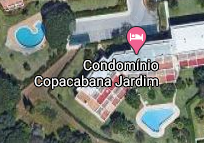pool: (143, 106, 172, 130), (15, 26, 45, 45)
